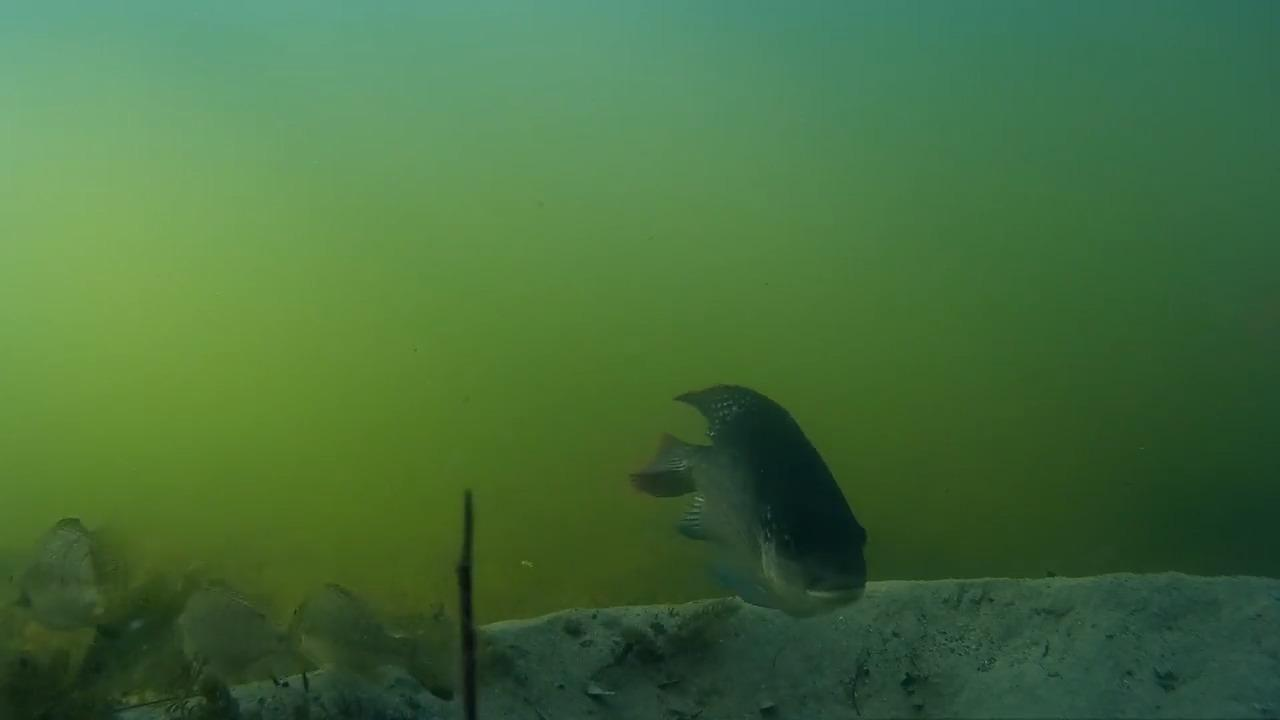Tilapia: (632, 382, 886, 624), (0, 510, 149, 664), (288, 564, 439, 702), (168, 572, 313, 682), (872, 652, 885, 662)
